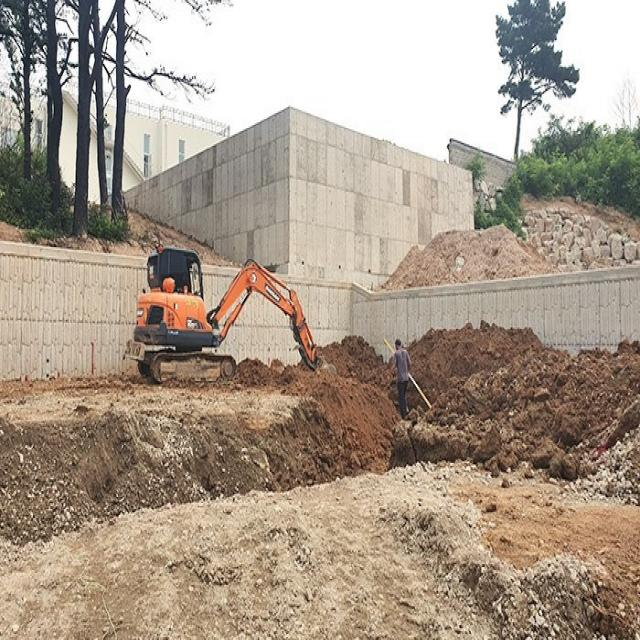excavator: (125, 245, 338, 383)
